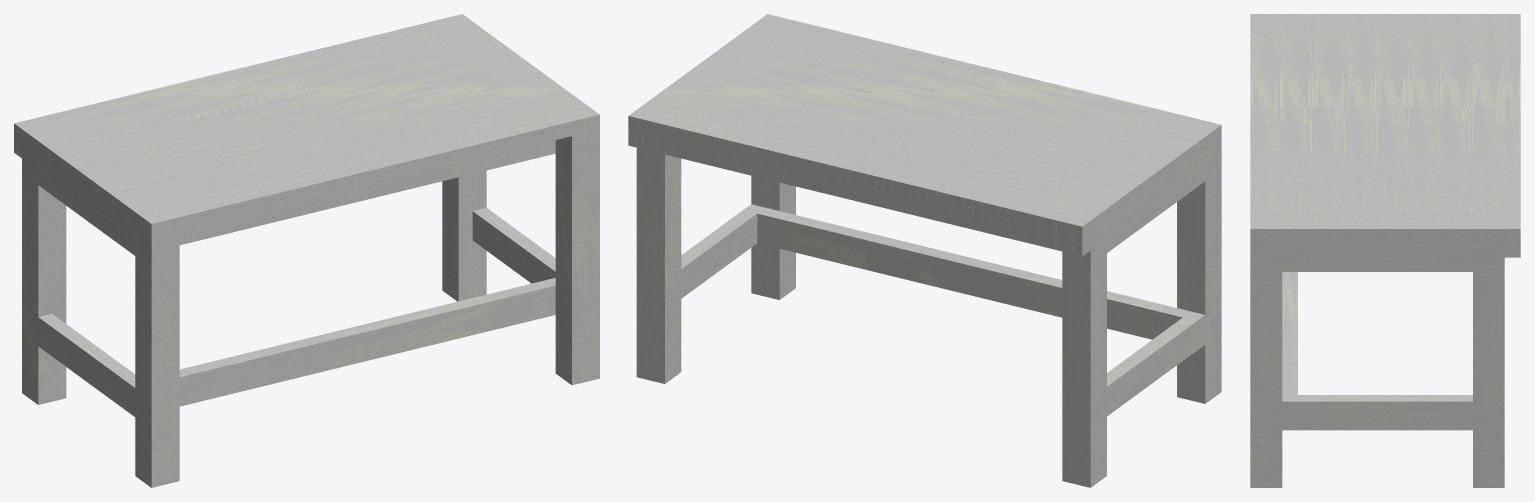
3 renders of one model, left to right at view 1: azimuth 30°, elevation 25°; view 2: azimuth 150°, elevation 25°; view 3: azimuth 270°, elevation 25°, orthographic. The views are drawn at different scales.
Parts seen in each view (by area): view 1: mesh14_mesh14-geometry, mesh3_mesh3-geometry, mesh4_mesh4-geometry, mesh12_mesh12-geometry, mesh6_mesh6-geometry, mesh9_mesh9-geometry, mesh11_mesh11-geometry, mesh8_mesh8-geometry, mesh5_mesh5-geometry, mesh10_mesh10-geometry, mesh7_mesh7-geometry, mesh1_mesh1-geometry (+2 smaller); view 2: mesh14_mesh14-geometry, mesh15_mesh15-geometry, mesh3_mesh3-geometry, mesh12_mesh12-geometry, mesh4_mesh4-geometry, mesh6_mesh6-geometry, mesh9_mesh9-geometry, mesh11_mesh11-geometry, mesh5_mesh5-geometry, mesh7_mesh7-geometry, mesh10_mesh10-geometry, mesh8_mesh8-geometry (+1 smaller); view 3: mesh14_mesh14-geometry, mesh12_mesh12-geometry, mesh4_mesh4-geometry, mesh7_mesh7-geometry, mesh8_mesh8-geometry, mesh13_mesh13-geometry, mesh5_mesh5-geometry, mesh6_mesh6-geometry, mesh9_mesh9-geometry, mesh10_mesh10-geometry, mesh11_mesh11-geometry, mesh15_mesh15-geometry (+1 smaller).
Part boxes in pixels (<box>): mesh14_mesh14-geometry: <box>22,133,599,487</box>; mesh3_mesh3-geometry: <box>179,278,555,406</box>; mesh4_mesh4-geometry: <box>135,103,599,238</box>; mesh12_mesh12-geometry: <box>22,207,599,429</box>; mesh6_mesh6-geometry: <box>103,79,566,214</box>; mesh9_mesh9-geometry: <box>54,43,518,178</box>; mesh11_mesh11-geometry: <box>22,20,486,155</box>; mesh8_mesh8-geometry: <box>70,55,534,190</box>; mesh5_mesh5-geometry: <box>119,91,583,226</box>; mesh10_mesh10-geometry: <box>38,32,502,167</box>; mesh7_mesh7-geometry: <box>87,67,550,202</box>; mesh1_mesh1-geometry: <box>179,140,555,245</box>; mesh14_mesh14-geometry: <box>636,151,1221,487</box>; mesh15_mesh15-geometry: <box>628,110,1090,256</box>; mesh3_mesh3-geometry: <box>757,207,1190,339</box>; mesh12_mesh12-geometry: <box>636,204,1221,428</box>; mesh4_mesh4-geometry: <box>751,14,1221,151</box>; mesh6_mesh6-geometry: <box>719,38,1188,175</box>; mesh9_mesh9-geometry: <box>669,74,1139,211</box>; mesh11_mesh11-geometry: <box>637,98,1106,234</box>; mesh5_mesh5-geometry: <box>735,26,1205,162</box>; mesh7_mesh7-geometry: <box>702,50,1172,187</box>; mesh10_mesh10-geometry: <box>653,86,1123,223</box>; mesh8_mesh8-geometry: <box>686,62,1155,199</box>; mesh14_mesh14-geometry: <box>1250,272,1504,487</box>; mesh12_mesh12-geometry: <box>1250,395,1504,430</box>; mesh4_mesh4-geometry: <box>1250,14,1282,243</box>; mesh7_mesh7-geometry: <box>1345,14,1377,243</box>; mesh8_mesh8-geometry: <box>1377,14,1409,243</box>; mesh13_mesh13-geometry: <box>1250,243,1504,271</box>; mesh5_mesh5-geometry: <box>1282,14,1313,243</box>; mesh6_mesh6-geometry: <box>1314,14,1345,243</box>; mesh9_mesh9-geometry: <box>1409,14,1440,243</box>; mesh10_mesh10-geometry: <box>1441,14,1472,243</box>; mesh11_mesh11-geometry: <box>1473,14,1504,243</box>; mesh15_mesh15-geometry: <box>1504,14,1520,257</box>.
Bounding box in the file's own units: 0.7909 × 0.4449 × 0.4202.
